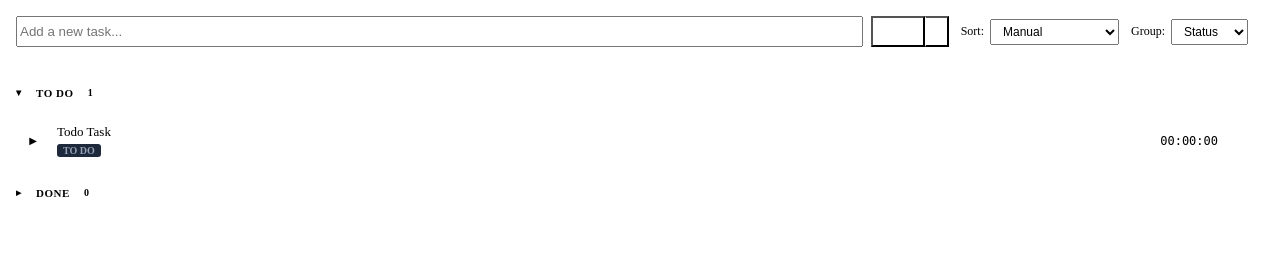
TaskList - Groups › clicking group header toggles collapse
The image size is (1265, 274).
Expected: the text "Done Task" is not shown
# Click the Done header to expand
Click the heading "▸ Done 0" at (53, 192), box [16,186,90,198]
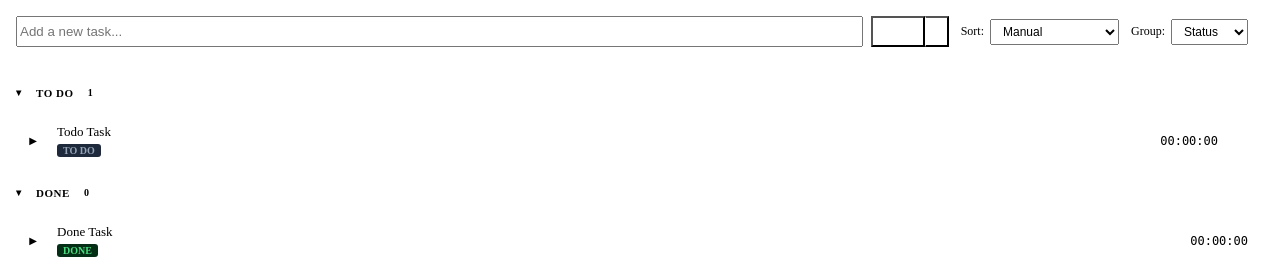
Now the text "Done Task" is shown, box [57,224,112,240]
